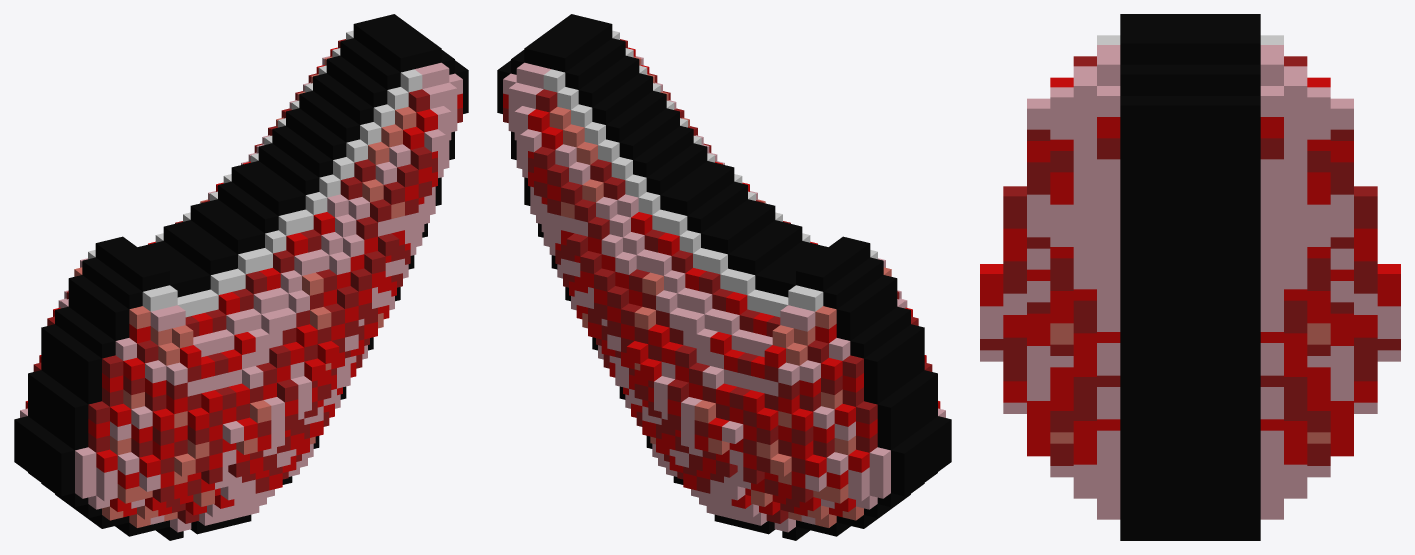
The model's file is drag_steak.glb.
3 renders of one model, left to right at view 1: azimuth 30°, elevation 25°; view 2: azimuth 150°, elevation 25°; view 3: azimuth 270°, elevation 25°, orthographic. The views are drawn at different scales.
Size of the model in its own units: 0.9375 by 0.9375 by 0.5625.
